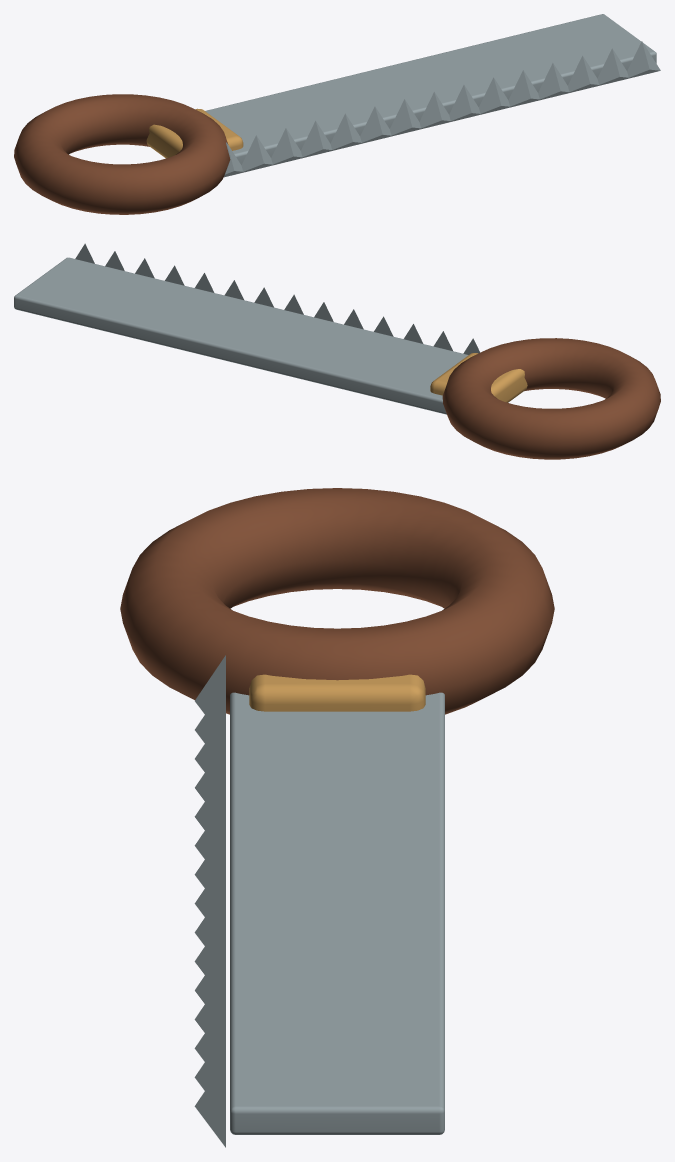
Rendered from item_saw.glb.
The picture shows the model from 3 angles, top to bottom: view 1: azimuth 30°, elevation 25°; view 2: azimuth 150°, elevation 25°; view 3: azimuth 270°, elevation 25°; orthographic projection. The views are drawn at different scales.
Parts seen in each view (by area): view 1: Saw_blade, Saw_handle, Handle_mount, Saw_tooth.014, Saw_tooth.003, Saw_tooth.012, Saw_tooth.006, Saw_tooth.001, Saw_tooth.002, Saw_tooth.005, Saw_tooth.010, Saw_tooth.008 (+6 smaller); view 2: Saw_blade, Saw_handle, Handle_mount; view 3: Saw_blade, Saw_handle, Handle_mount, Saw_tooth.014.
Boxes of the visible parts, box(x1,y1,x2,y2) form: Saw_blade: box(205, 14, 656, 164); Saw_handle: box(14, 94, 230, 214); Handle_mount: box(146, 108, 243, 158); Saw_tooth.014: box(627, 41, 660, 77); Saw_tooth.003: box(298, 120, 333, 159); Saw_tooth.012: box(565, 55, 600, 93); Saw_tooth.006: box(386, 99, 422, 137); Saw_tooth.001: box(238, 135, 272, 173); Saw_tooth.002: box(268, 128, 302, 166); Saw_tooth.005: box(357, 106, 391, 144); Saw_tooth.010: box(508, 70, 541, 106); Saw_tooth.008: box(449, 85, 482, 121); Saw_blade: box(14, 257, 468, 414); Saw_handle: box(442, 338, 660, 459); Handle_mount: box(430, 353, 527, 402); Saw_blade: box(230, 692, 444, 1134); Saw_handle: box(120, 488, 554, 714); Handle_mount: box(249, 674, 425, 711); Saw_tooth.014: box(194, 1060, 225, 1147).
Size of the model in its own units: 0.7135 by 0.0495 by 0.222.
